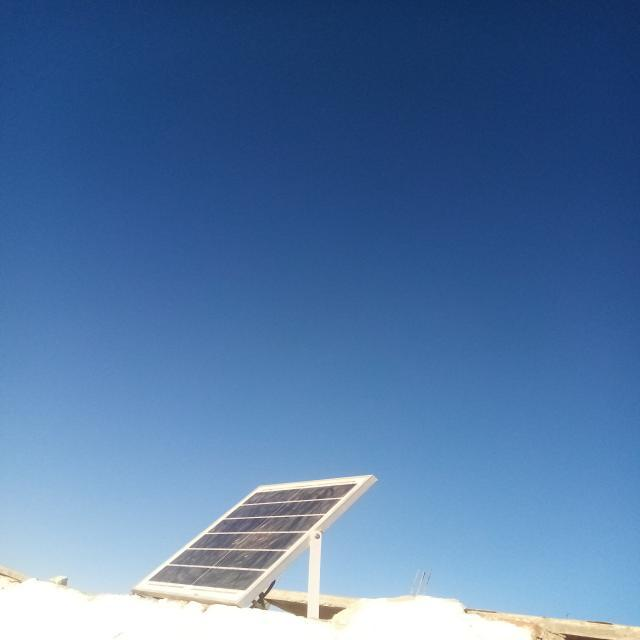faulty: (131, 475, 371, 602)
